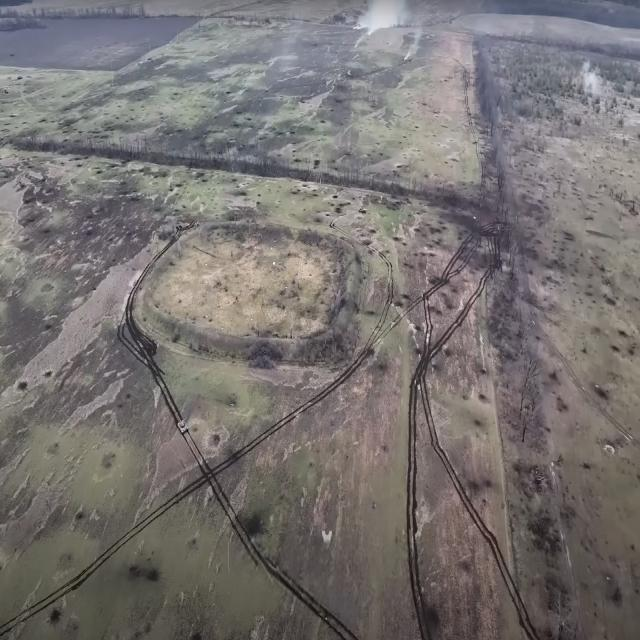AIFV: (359, 206, 369, 216)
MBT: (176, 411, 191, 440)
